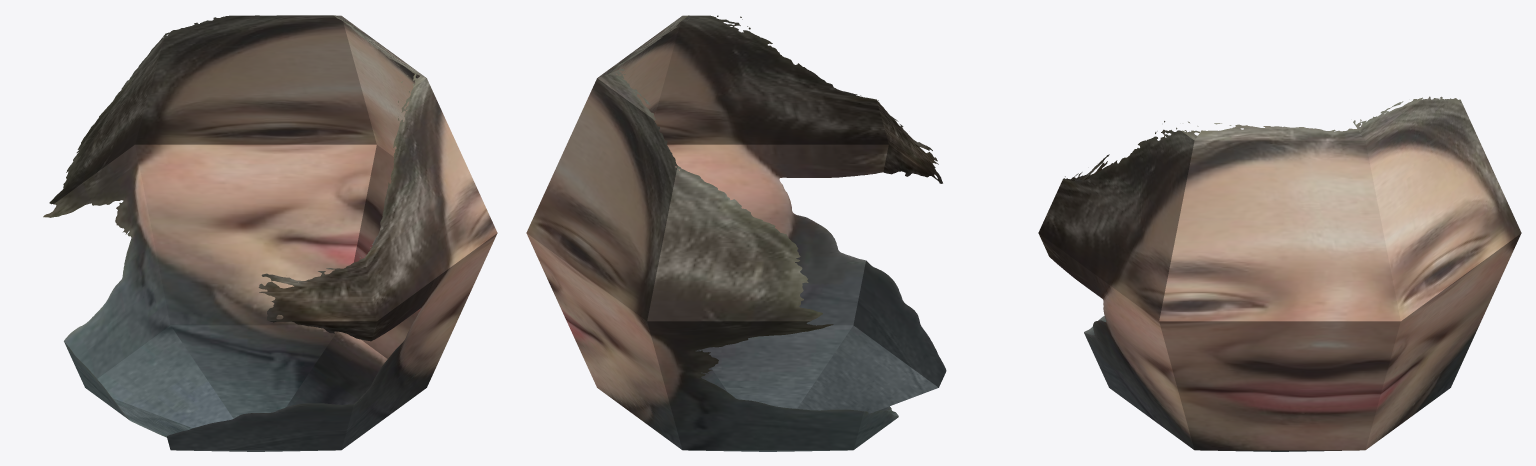
The model's file is hydeball.obj.
3 views of the same model, side by side, from view 1: azimuth 30°, elevation 25°; view 2: azimuth 150°, elevation 25°; view 3: azimuth 270°, elevation 25° (orthographic).
Visible parts, largest first — view 1: Sphere; view 2: Sphere; view 3: Sphere.
Part boxes in pixels (x1,y1,x2,y2): Sphere: (43,15,497,451); Sphere: (526,15,946,451); Sphere: (1038,96,1521,451).
Bounding box in the file's own units: 1.73 × 2 × 2.
Materials: 1 (1 with a texture image).
